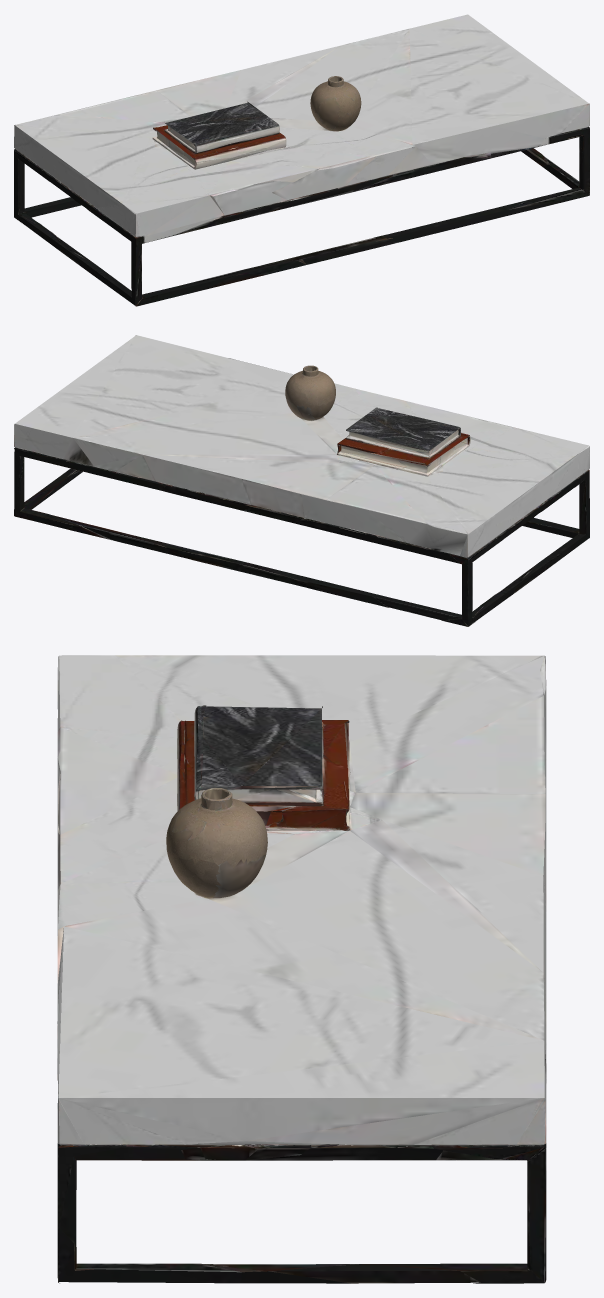
File: coffee-table-v1.glb
3 renders of one model, top to bottom at view 1: azimuth 30°, elevation 25°; view 2: azimuth 150°, elevation 25°; view 3: azimuth 270°, elevation 25°, orthographic. The views are drawn at different scales.
Size of the model in its own units: 1.2 by 0.3545 by 0.5585.
1 material, 1 textured.
